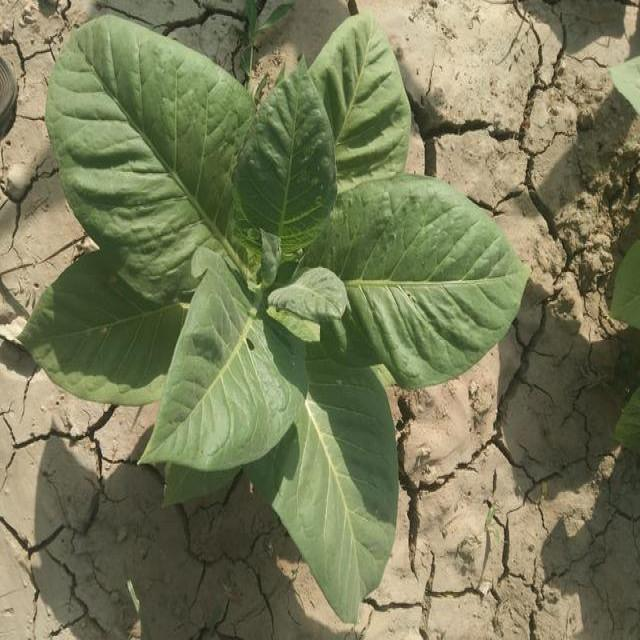crop: (30, 18, 531, 610)
